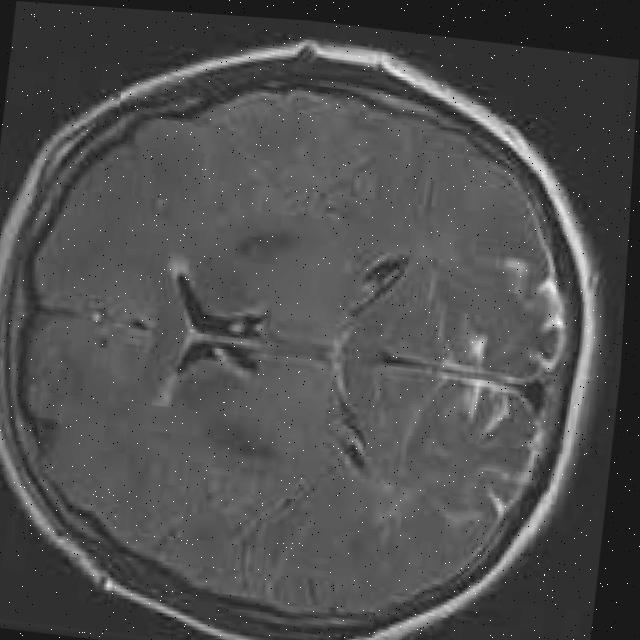NoTumor: (0, 7, 633, 640)
